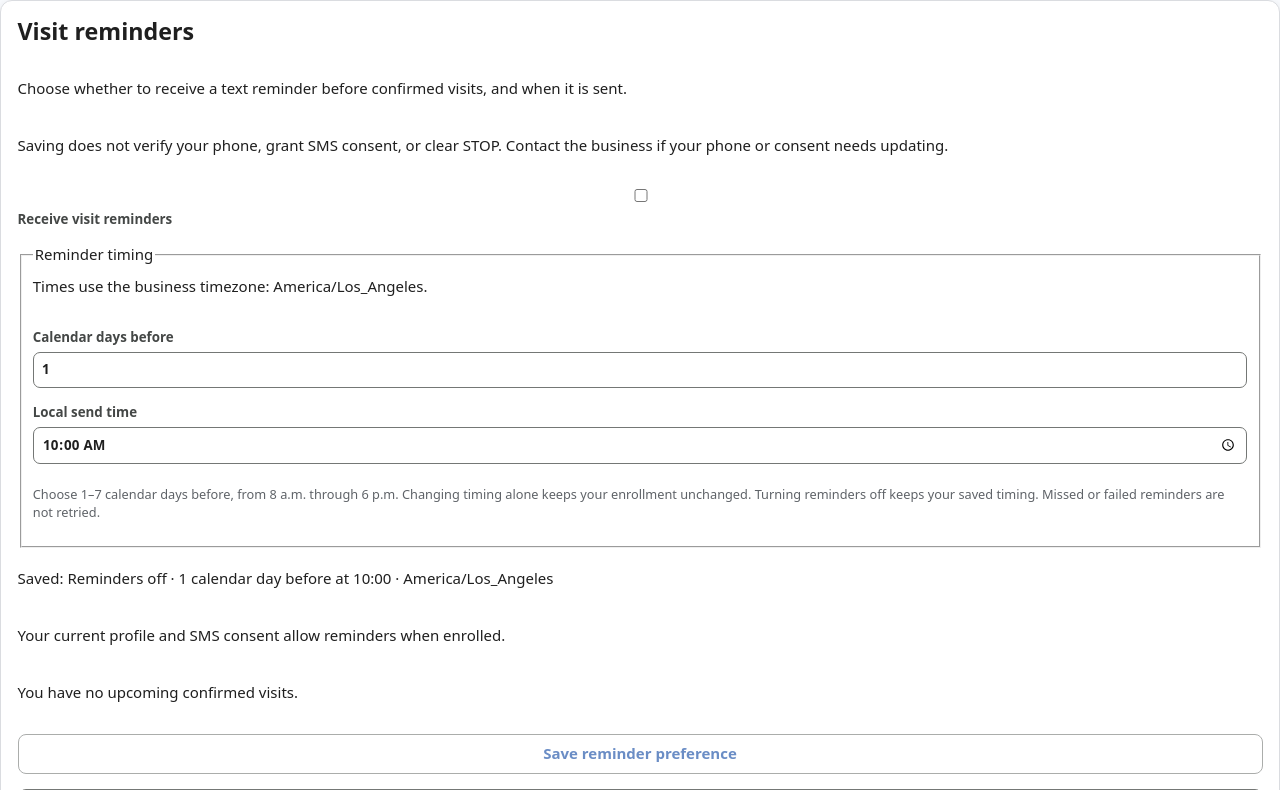
requires reload after a 409 save error and preserves the newer saved choice
The image size is (1280, 790).
Step 1. Click the checkbox labelled "Receive visit reminders" → point(640, 196), box [22, 189, 1260, 202]
(page scrolled)
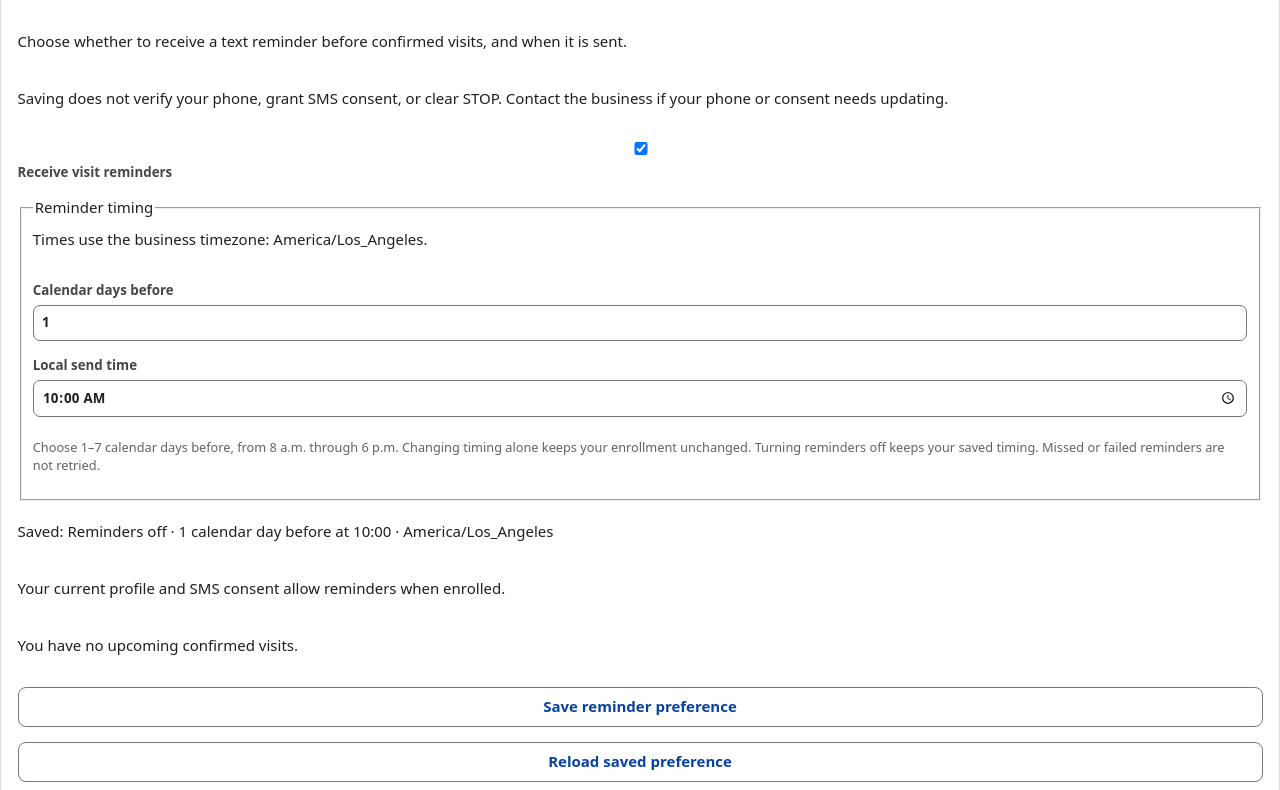
Step 2. Submit the form
(page scrolled)
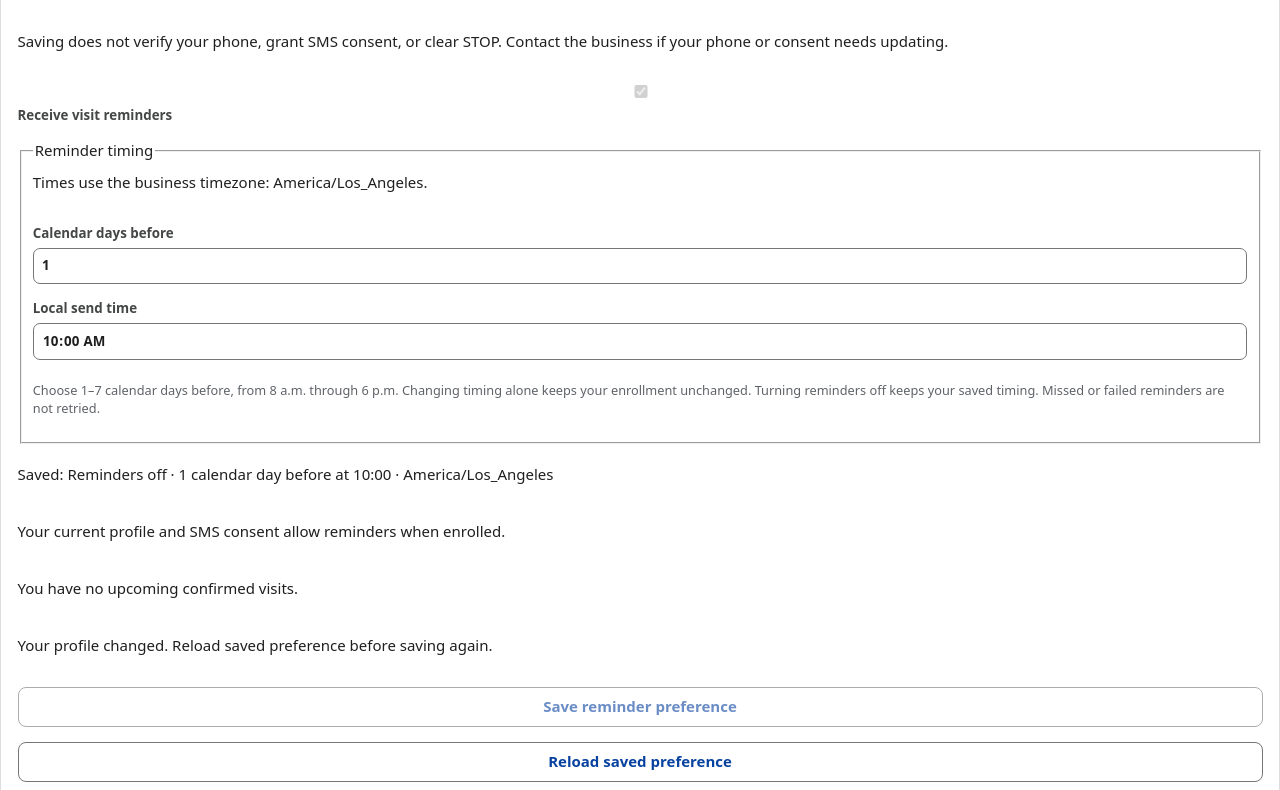
Result: the message "Your profile changed. Reload saved preference before saving again." is shown at [18, 635, 492, 655]
Result: the submit button is disabled at [18, 687, 1262, 727]
Step 3. Click the button "Reload saved preference" → point(640, 762), box [18, 742, 1262, 782]
(page scrolled)
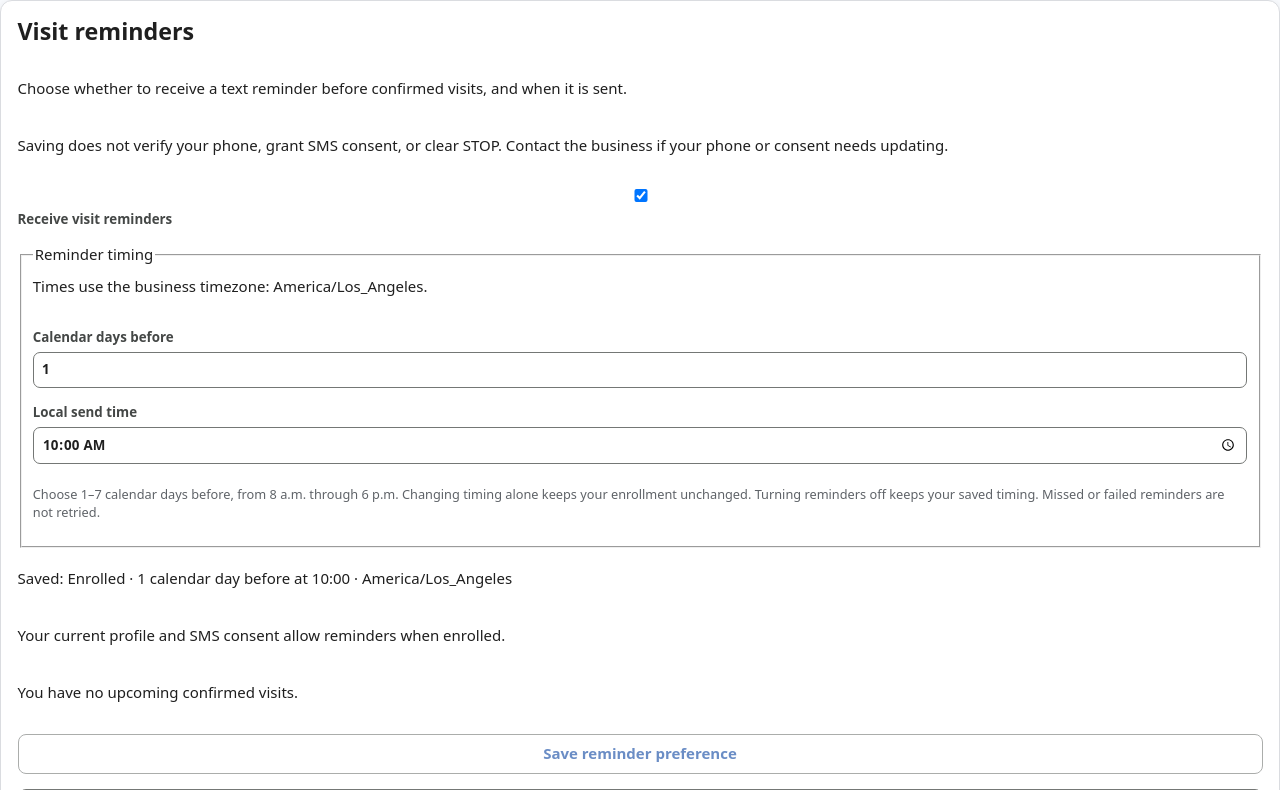
Result: the checkbox labelled "Receive visit reminders" is checked at [22, 189, 1260, 202]
Result: the message "Your profile changed. Reload saved preference before saving again." is gone
